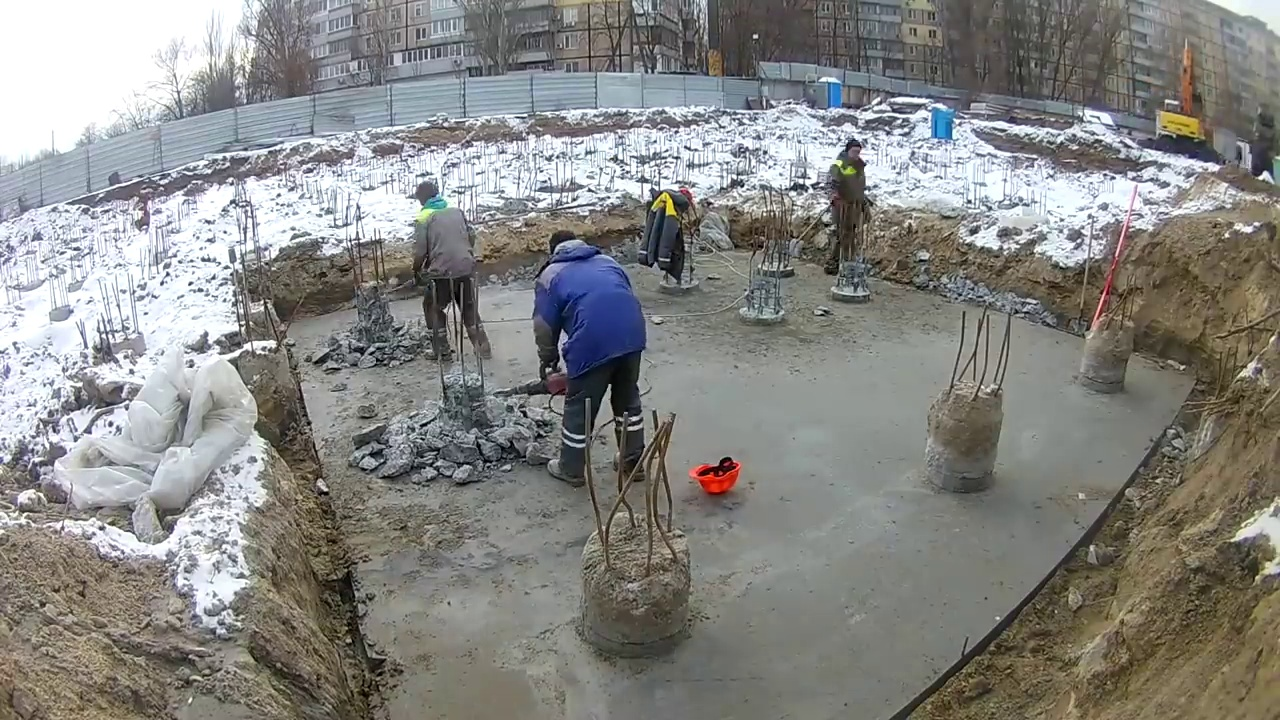helmet: (690, 456, 741, 498)
helmet-off: (549, 232, 595, 262), (416, 182, 439, 211), (843, 138, 862, 163)
person: (533, 226, 652, 489), (411, 181, 493, 367), (828, 138, 867, 271)
